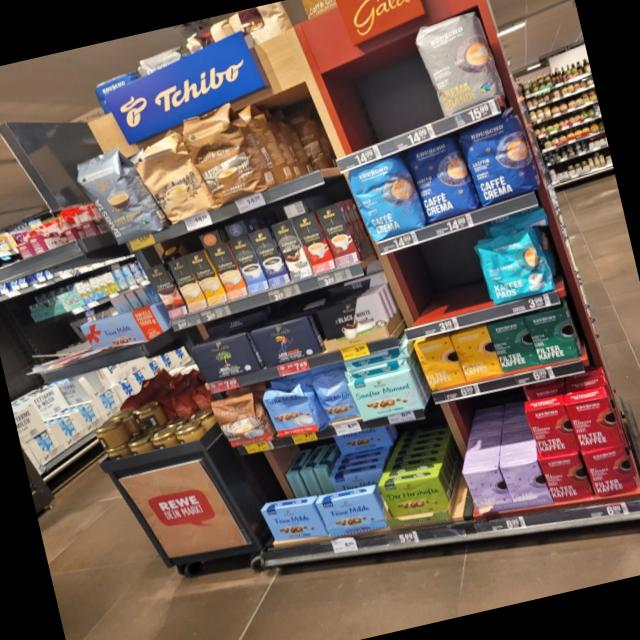BM Gemahlen: (186, 333, 262, 384)
BW Gemahlen: (313, 290, 393, 351)
Barista CC: (64, 141, 171, 247)
CC Mild: (126, 124, 218, 227)
CC Vollmundig: (208, 389, 275, 454)
CC Vollmundig 36 Pads: (173, 95, 279, 211)
FM 36 Pads: (260, 378, 322, 444)
FM Bohne: (308, 366, 362, 426)
FM Gemahlen: (314, 491, 388, 538), (258, 502, 329, 542)
Herzhatfe Mundig: (377, 474, 451, 519)
LG Gemahlen: (249, 314, 325, 369)
SM Gemahlen: (346, 368, 426, 422)
Simo CC Colombia: (144, 261, 190, 319)
Simo CCMild bigpack: (183, 248, 230, 307)
Simo CCVollmundig bigpack: (204, 240, 250, 299)
Simo Es Elegant: (288, 208, 339, 276)
Simo Es Kraft: (315, 201, 363, 268)
Simo Kaffee BW: (269, 217, 315, 283)
Simo Kaffee Kraft: (245, 224, 292, 288)
Simo Kaffee Mild: (226, 233, 271, 295)
